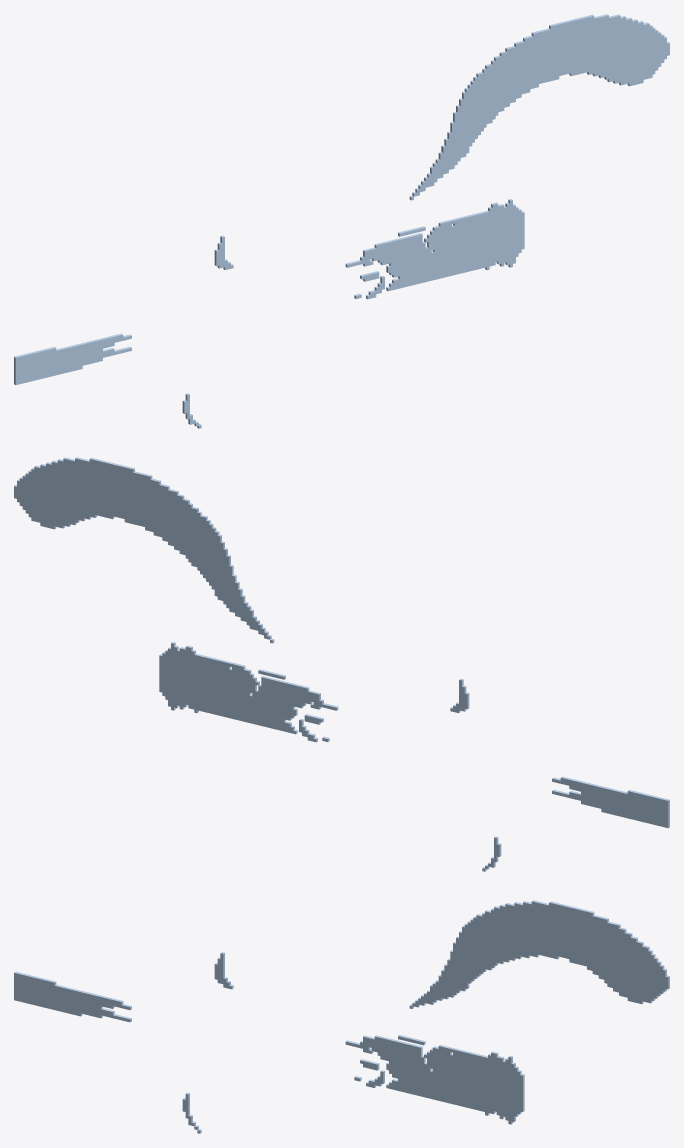
File: Fight_209_2_14_fx.obj
3 views of the same model, one above another, from view 1: azimuth 30°, elevation 25°; view 2: azimuth 150°, elevation 25°; view 3: azimuth 330°, elevation 25° (orthographic).
Size of the model in its own units: 22.5 by 10.4 by 0.1.
